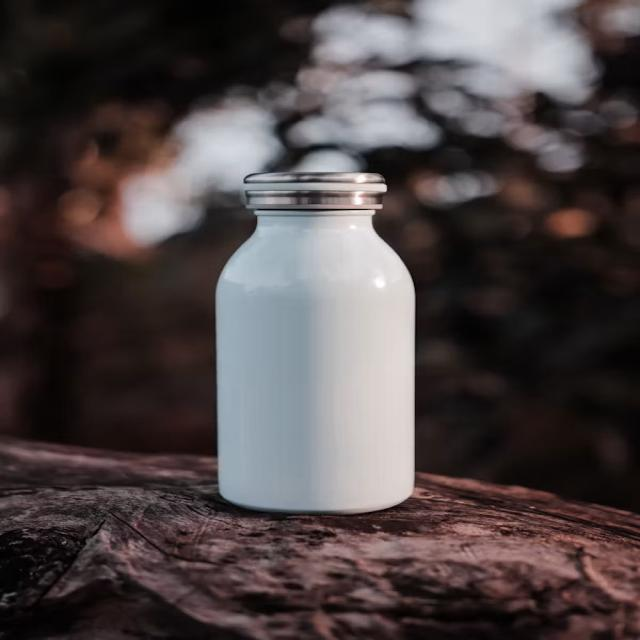Bottle: (217, 173, 414, 513)
